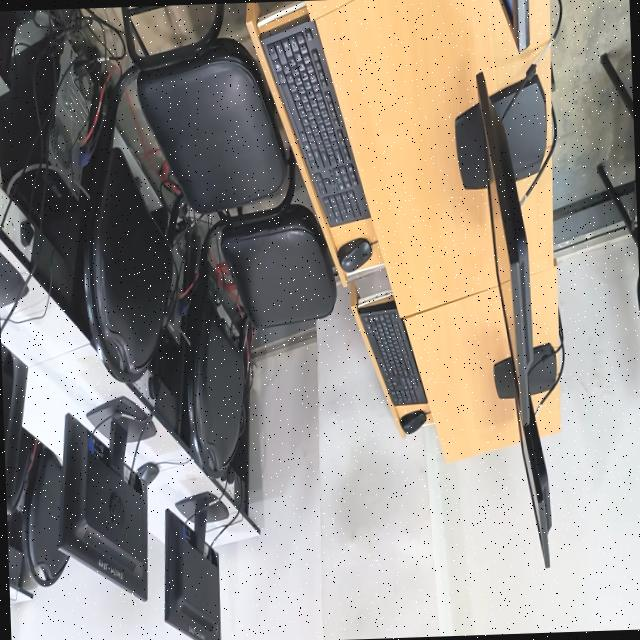Chair: (84, 3, 335, 382), (190, 152, 336, 474), (21, 441, 68, 587), (598, 164, 638, 248), (601, 56, 633, 120)
Cpu: (0, 35, 99, 215)
Keyboard: (261, 18, 370, 227), (358, 301, 426, 404)
Monitor: (455, 70, 546, 426), (59, 397, 156, 601), (165, 492, 229, 640), (522, 397, 552, 567), (1, 341, 28, 510), (0, 253, 26, 324), (528, 344, 557, 396), (500, 0, 529, 51), (494, 358, 515, 398)
Mouse: (337, 238, 372, 273), (400, 410, 426, 434), (137, 462, 159, 486)
